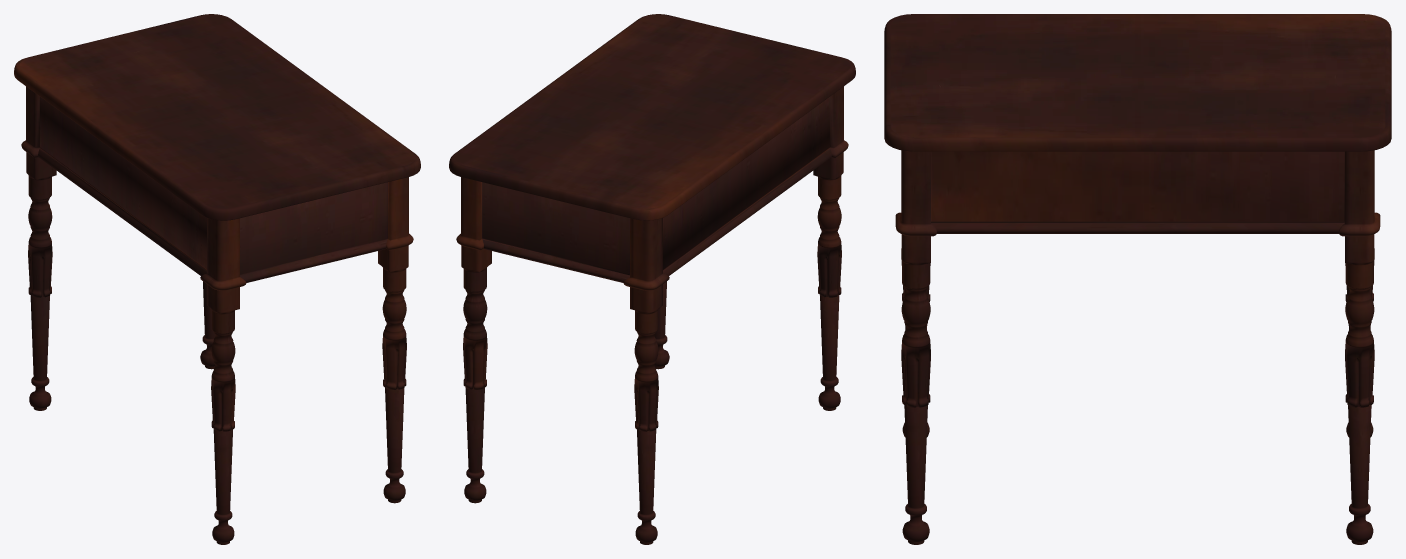
Rendered from deck_mahogany.glb.
3 renders of one model, left to right at view 1: azimuth 30°, elevation 25°; view 2: azimuth 150°, elevation 25°; view 3: azimuth 270°, elevation 25°, orthographic. The views are drawn at different scales.
Visible parts, largest first — view 1: Table Top.001, Legs and Rails.001; view 2: Table Top.001, Legs and Rails.001; view 3: Table Top.001, Legs and Rails.001.
Boxes of the visible parts, x1,y1,x2,y2 form: Table Top.001: (14, 14, 420, 220); Legs and Rails.001: (21, 86, 413, 544); Table Top.001: (449, 14, 855, 220); Legs and Rails.001: (456, 86, 848, 544); Table Top.001: (884, 14, 1391, 151); Legs and Rails.001: (895, 150, 1380, 544).
Size of the model in its own units: 25 by 38 by 42.13.
Materials: 2 (2 with a texture image).
